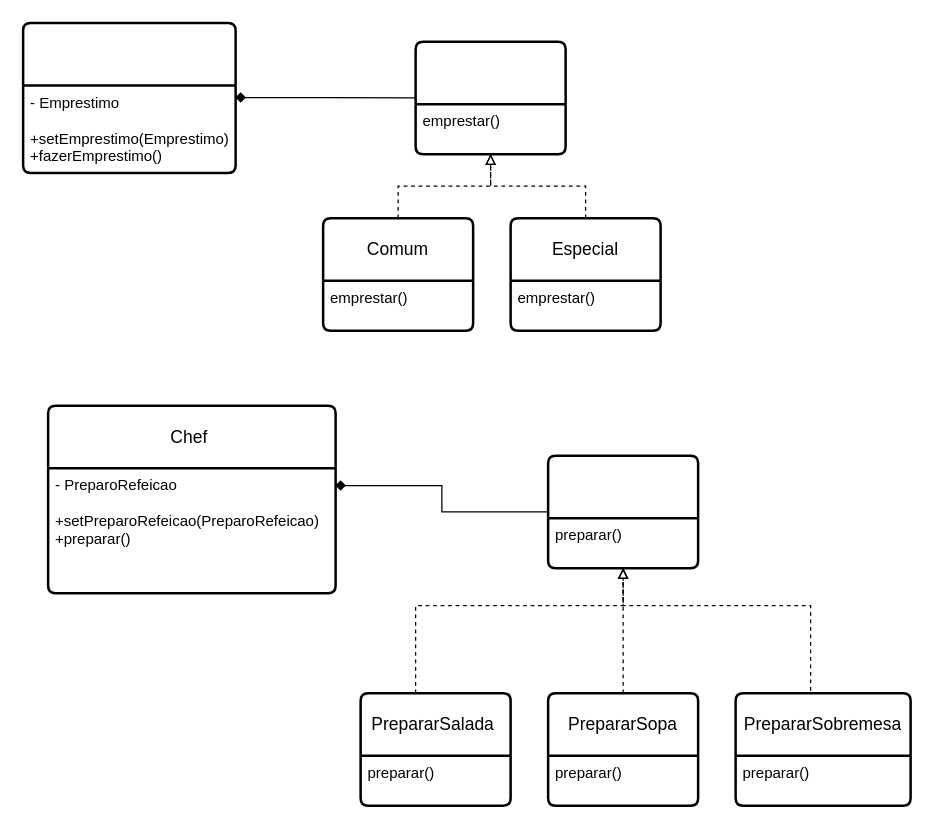
This 933x829 diagram has some shape labels left out. The shapes that lost their labels are listed below. From the top down, each one's box as (x1, y1, x2, y2) in pixels, then its label:
(21, 21, 236, 174): Cliente
(414, 40, 566, 155): <<interface>> Emprestimo
(546, 454, 699, 569): <<interface>> PreparoRefeicao
